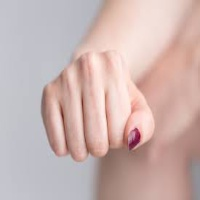ring: (58, 93, 88, 165)
